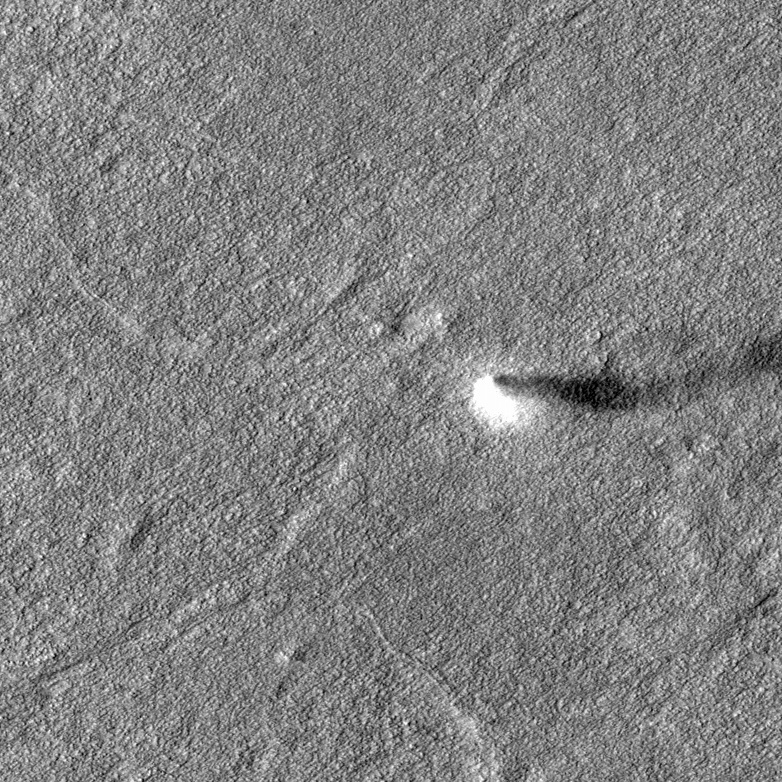dust_devil: (465, 327, 782, 434)
